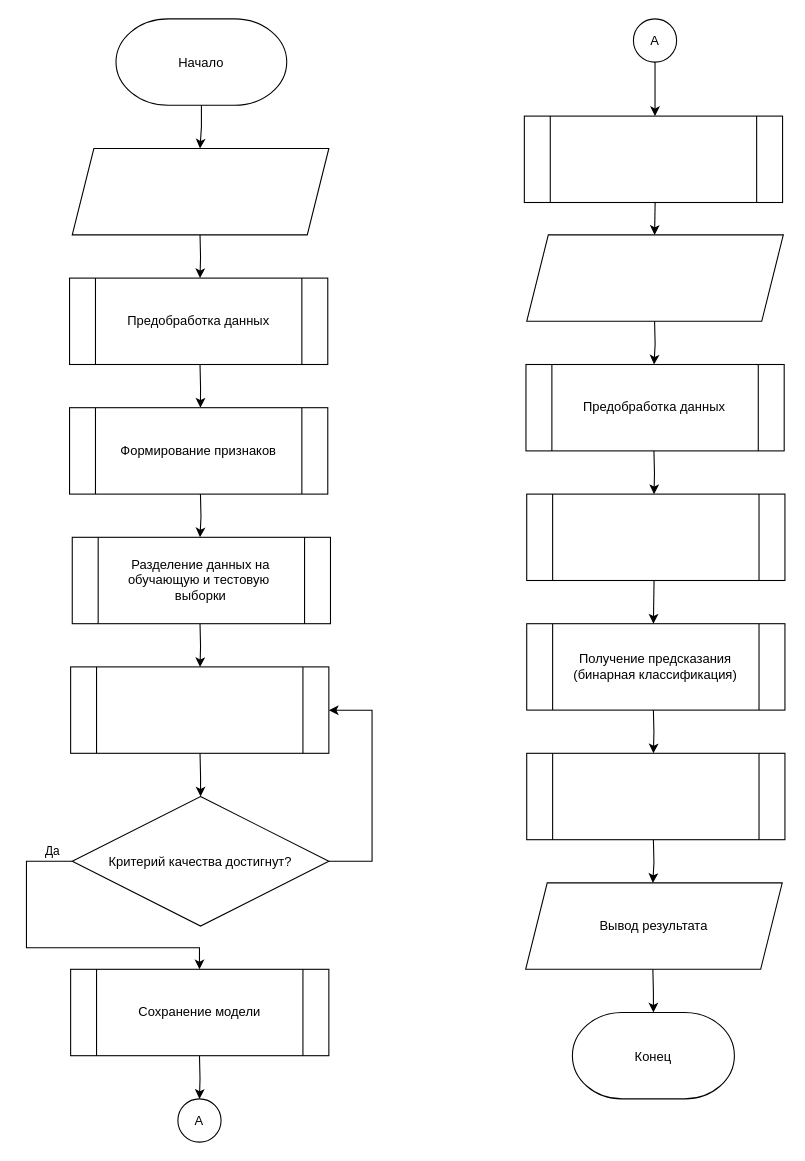
Some shapes in this 805 by 1161 pixel diagram are drawn without their labels. The shapes that lost their labels are listed below. From the top down, each one's centre as x and y in pixels, then its label:
At (653,158): "Загрузка обученной модели".
At (200,191): "Ввод исходных данных".
At (654,277): "Ввод новых данных".
At (655,536): "Применение модели GBDT".
At (199,709): "Обучение модели".
At (655,796): "Анализ значимости признаков".
